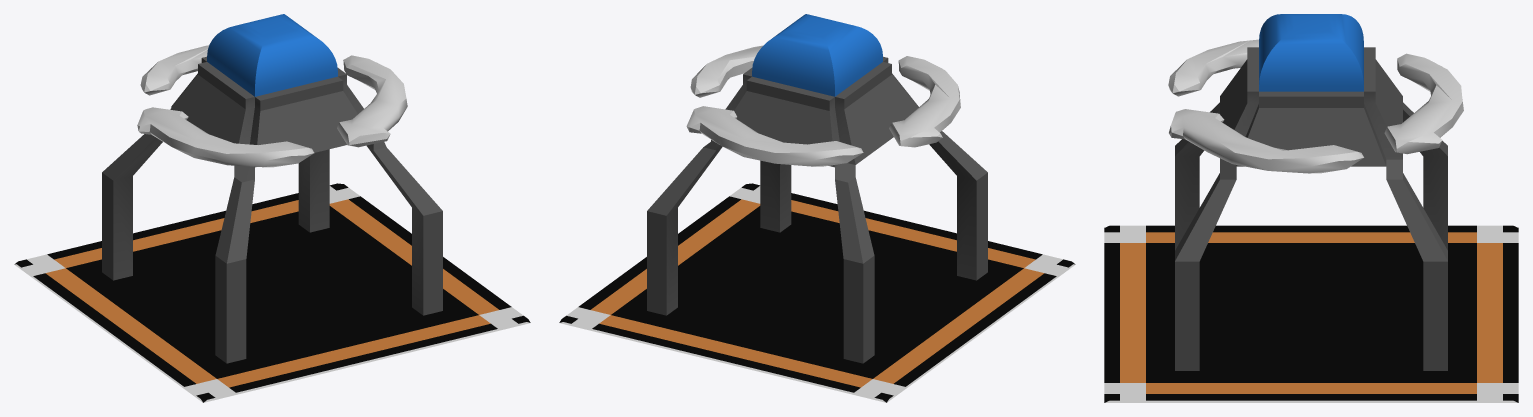
Rendered from SM_Building_Industry.glb.
The picture shows the model from 3 angles, left to right: view 1: azimuth 30°, elevation 25°; view 2: azimuth 150°, elevation 25°; view 3: azimuth 270°, elevation 25°; orthographic projection. The views are drawn at different scales.
Parts seen in each view (by area): view 1: Ground, Blue, RecycleIcon, Plane; view 2: Ground, Blue, RecycleIcon, Plane; view 3: Ground, Blue, RecycleIcon, Plane.
Boxes of the visible parts, box(x1,y1,x2,y2) form: Ground: box(14, 183, 530, 402); Blue: box(102, 14, 442, 363); RecycleIcon: box(137, 45, 407, 167); Plane: box(14, 264, 529, 402); Ground: box(559, 183, 1075, 402); Blue: box(647, 14, 987, 363); RecycleIcon: box(686, 45, 960, 166); Plane: box(560, 264, 1075, 402); Ground: box(1104, 225, 1518, 402); Blue: box(1175, 14, 1447, 370); RecycleIcon: box(1168, 39, 1463, 173); Plane: box(1105, 400, 1517, 402).
Size of the model in its own units: 8 by 6.21 by 8.
